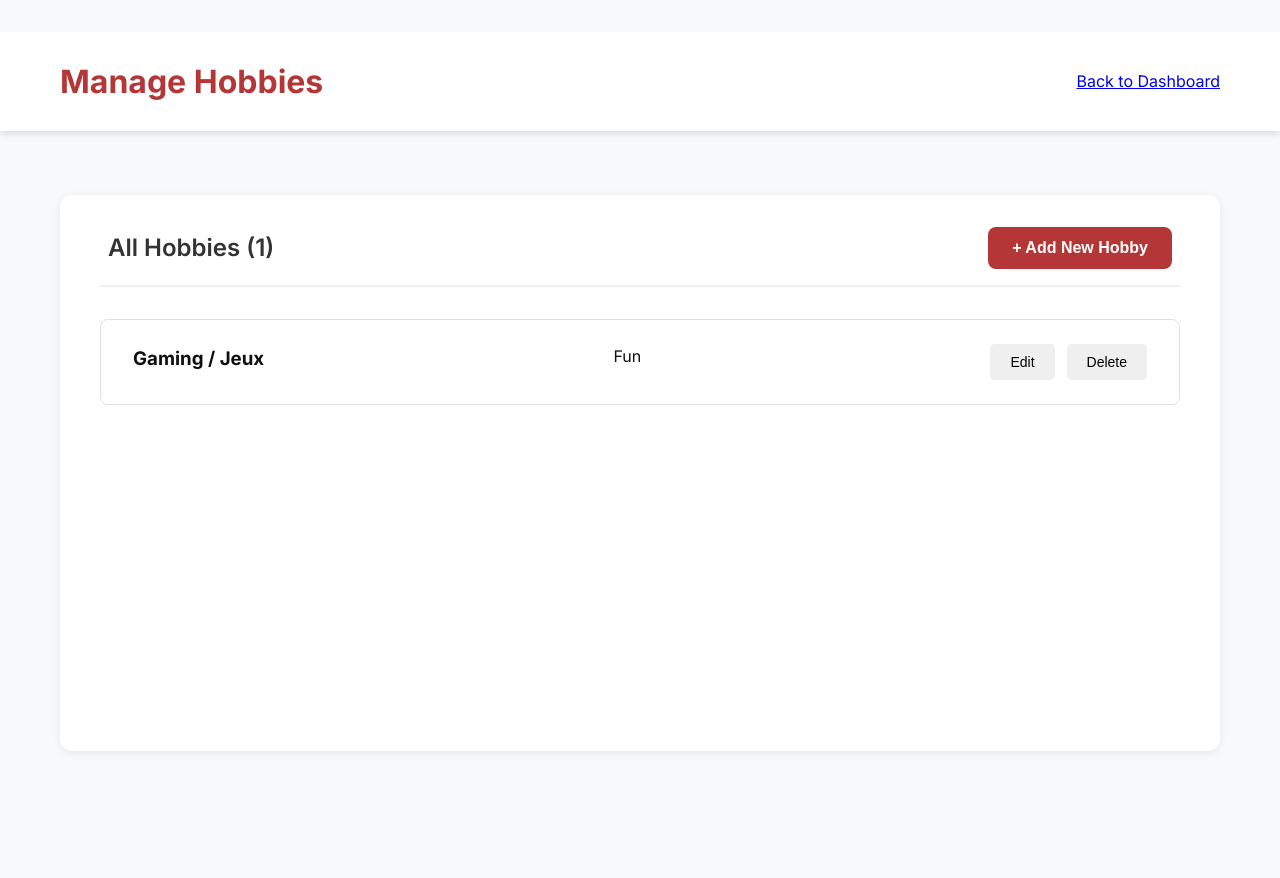
Test case: AdminHobbies › manages links (add and remove)
This screenshot has width=1280, height=878.
Click the button "+ Add New Hobby". click: click(1080, 248)
box: [988,227,1172,269]
(page scrolled)
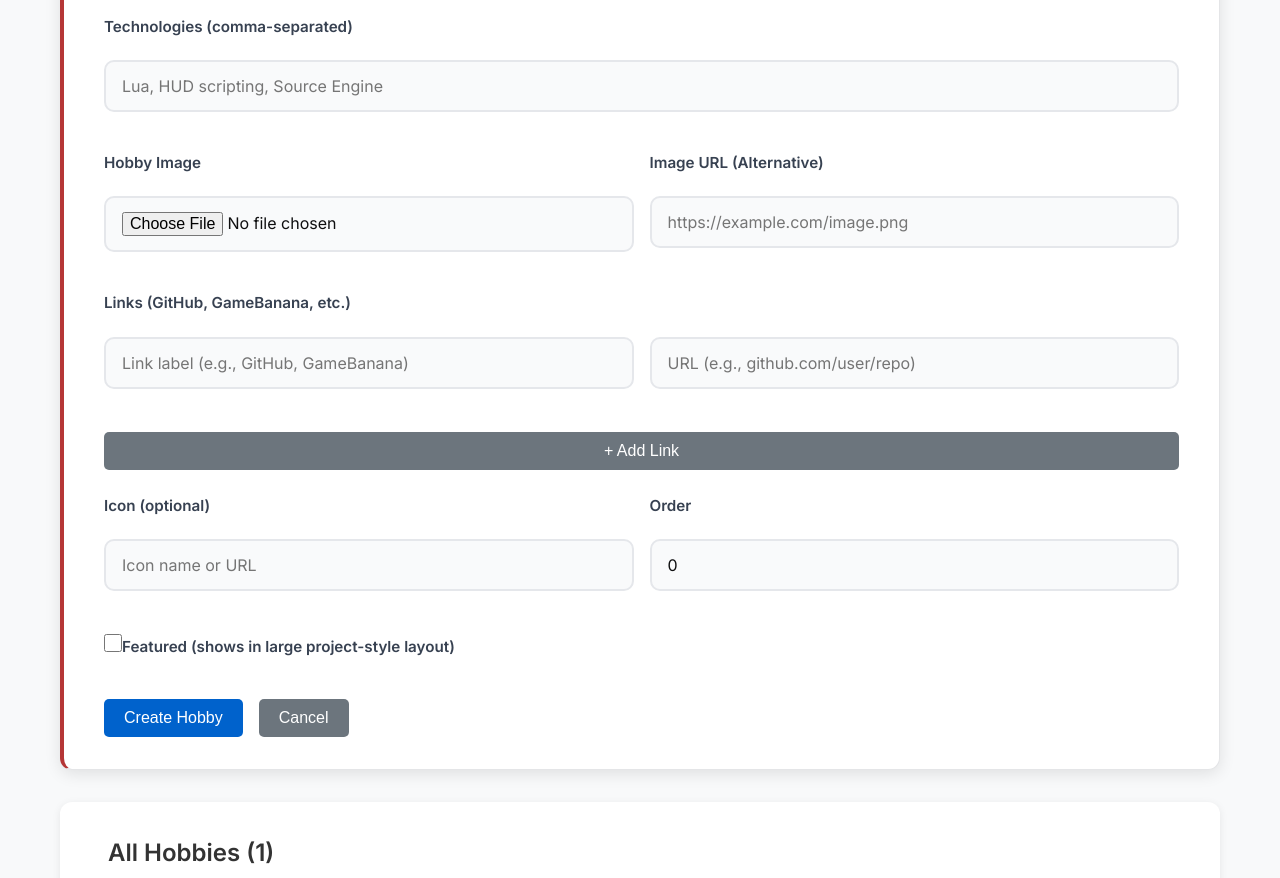
Add a link
Click the button "+ Add Link". click: click(642, 451)
box: [104,432,1179,470]
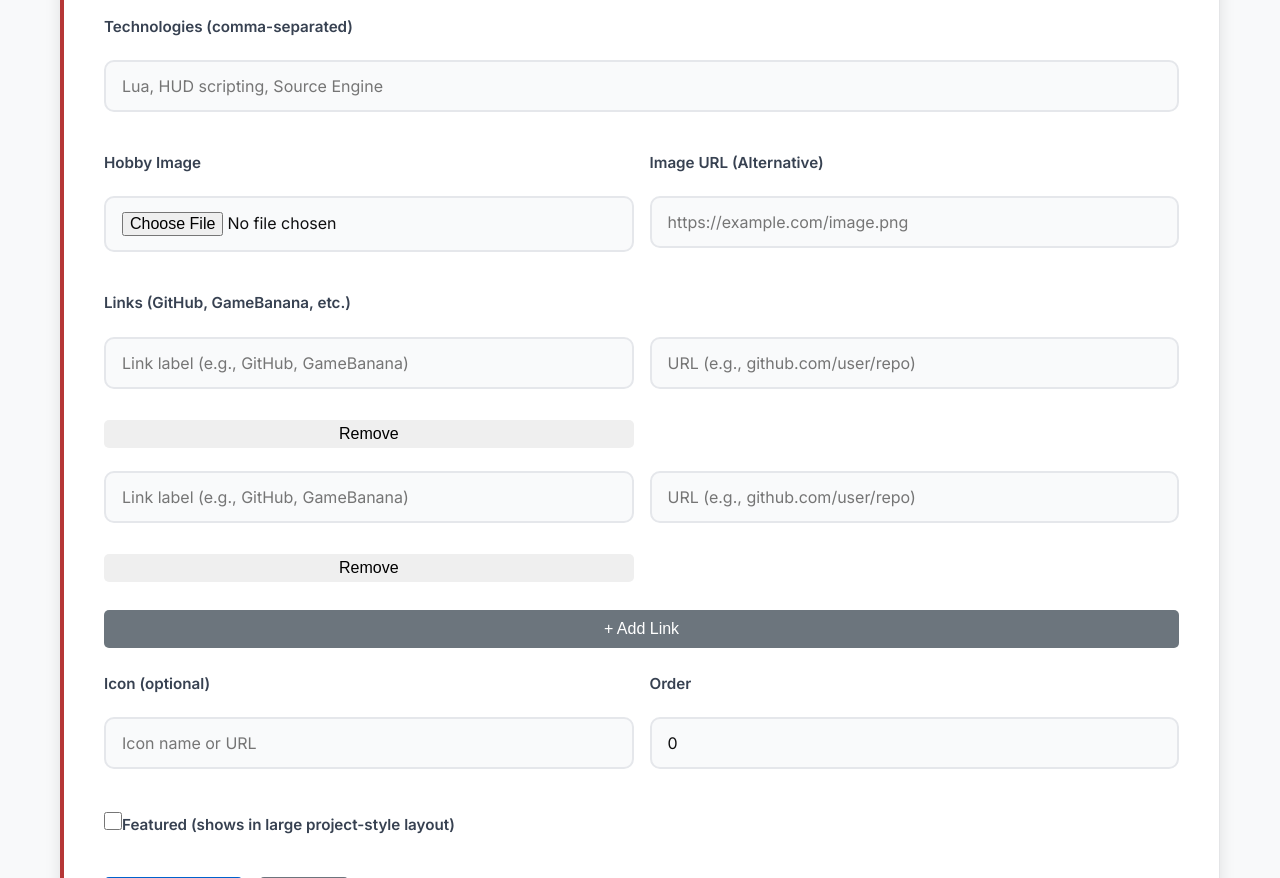
Now the number of fields with placeholder "Link label (e.g., GitHub, GameBanana)" is 2, box [104,337,634,389]; [104,471,634,523]
Remove one link
Click the 1st button "Remove". click: click(369, 434)
box: [104,420,634,448]
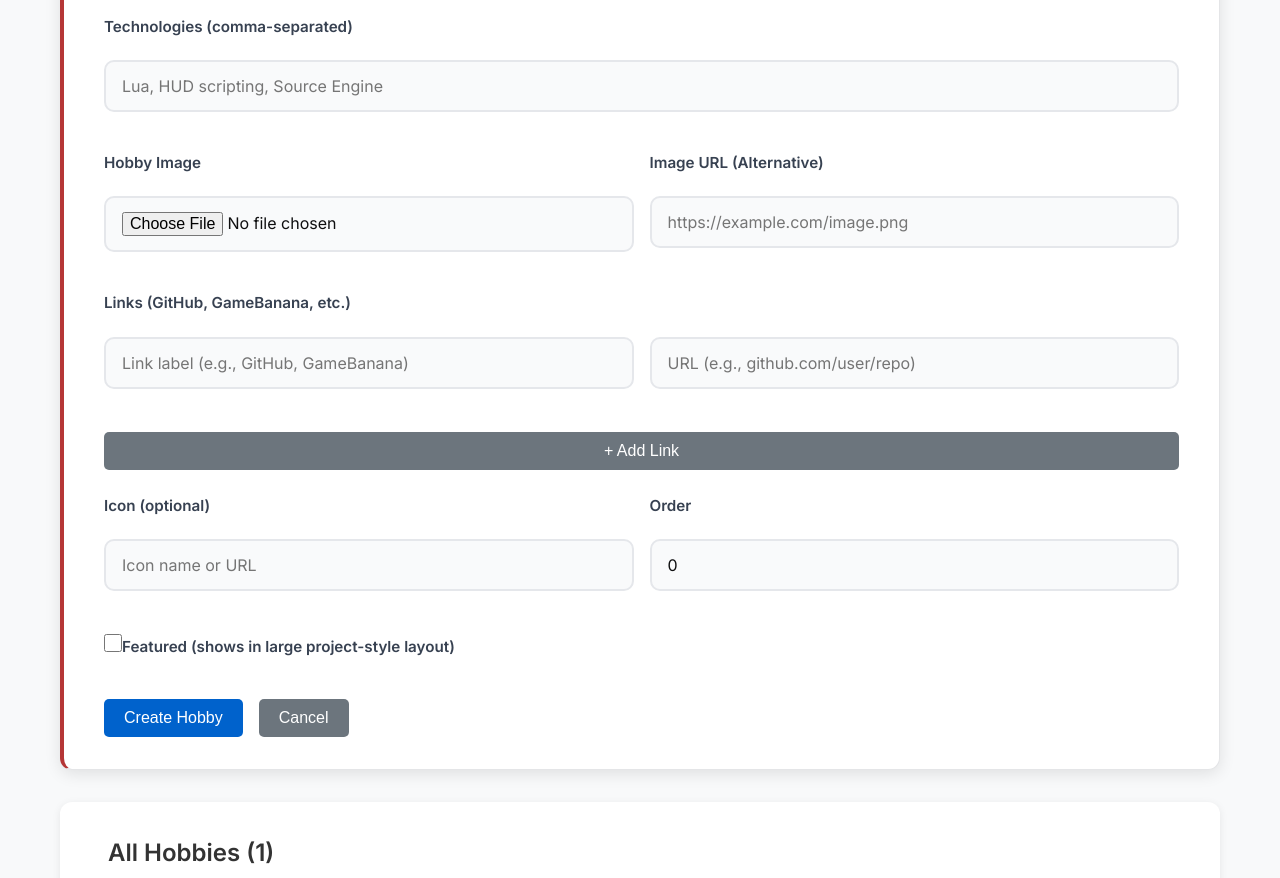
Now the number of fields with placeholder "Link label (e.g., GitHub, GameBanana)" is 1, box [104,337,634,389]
